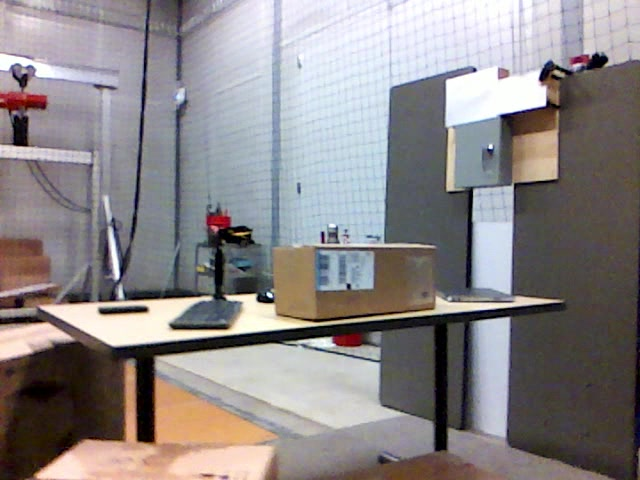box: (1, 327, 127, 480), (272, 243, 437, 317), (31, 439, 279, 480)
